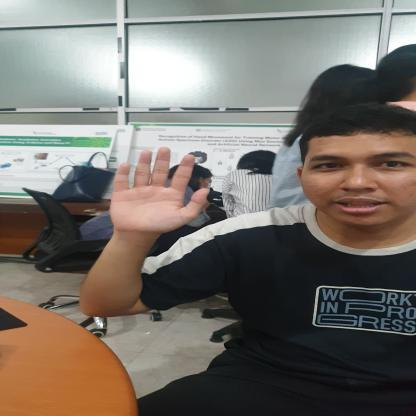Halo: (103, 146, 214, 232)
